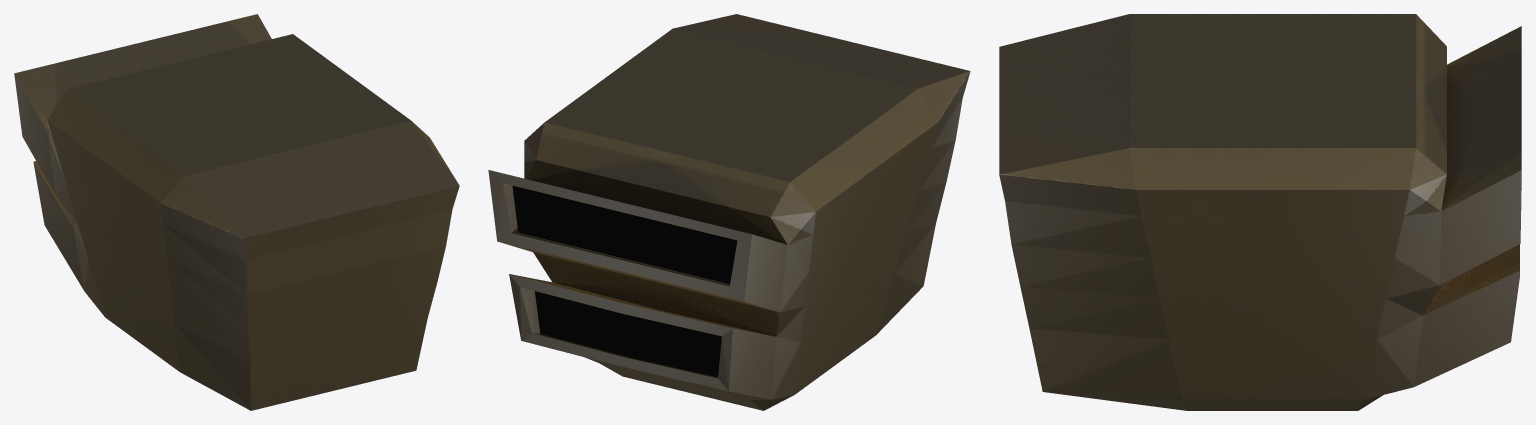
The model's file is duallaunchers7.dae.
3 renders of one model, left to right at view 1: azimuth 30°, elevation 25°; view 2: azimuth 150°, elevation 25°; view 3: azimuth 270°, elevation 25°, orthographic. The views are drawn at different scales.
Parts seen in each view (by area): view 1: duallaunchers; view 2: duallaunchers; view 3: duallaunchers.
Part boxes in pixels (x1,y1,x2,y2): duallaunchers: (14,14,459,410); duallaunchers: (488,14,970,410); duallaunchers: (999,14,1521,410).
Size of the model in its own units: 2.41 by 3.35 by 2.06.
1 material, 1 textured.
